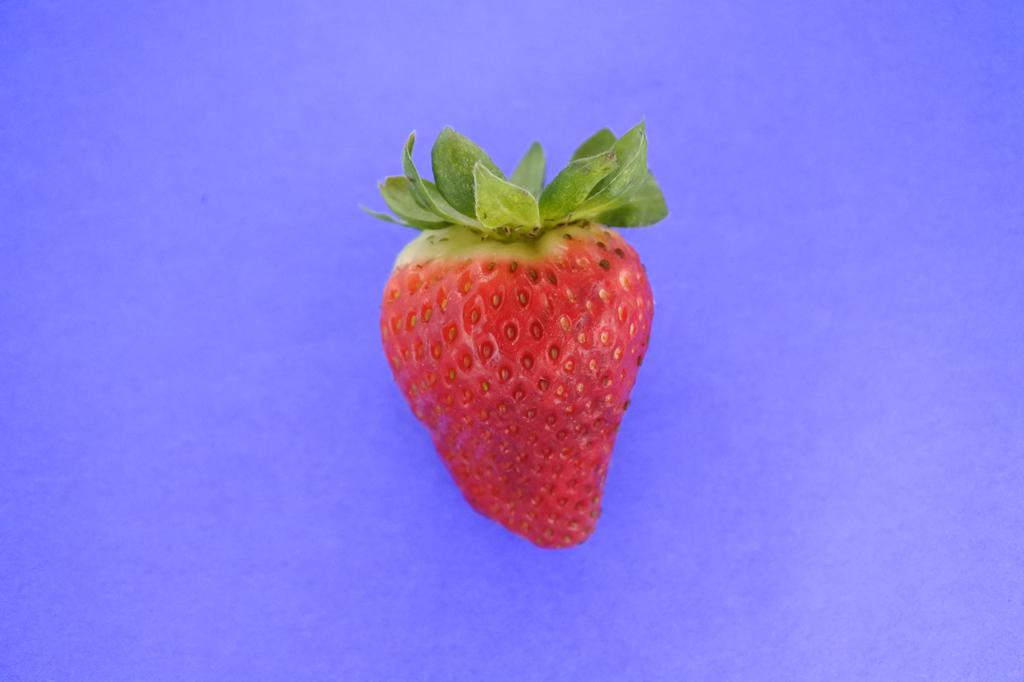red strawberry: (355, 127, 671, 553)
